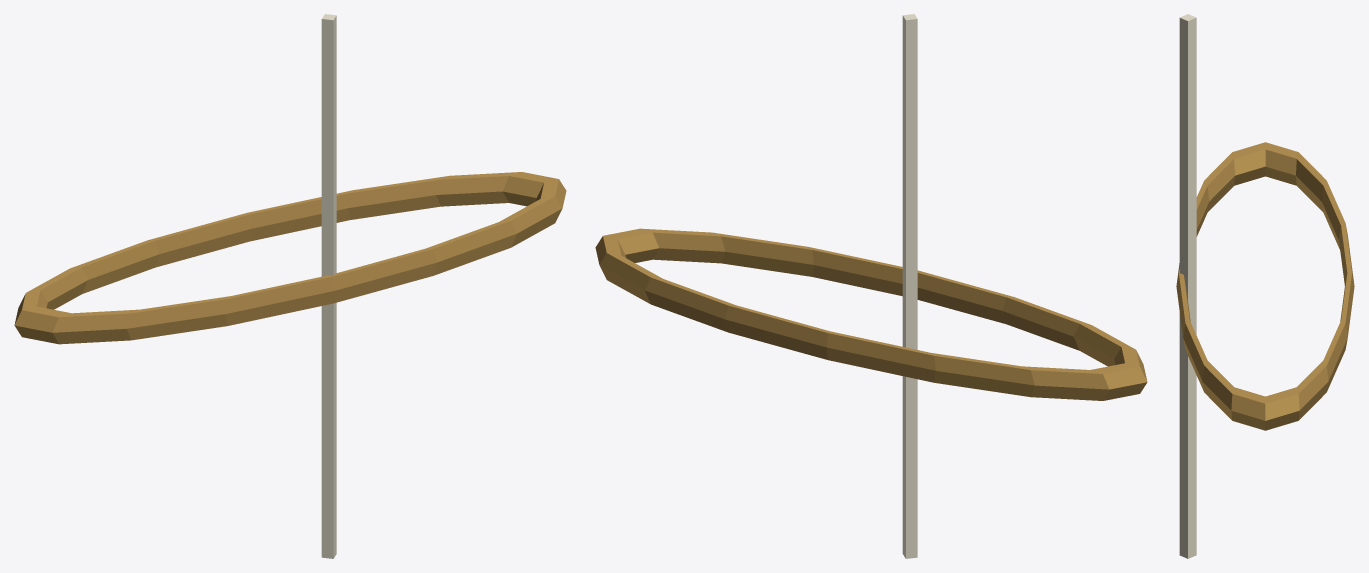
Rendered from wooden_bow.dae.
3 views of the same model, side by side, from view 1: azimuth 30°, elevation 25°; view 2: azimuth 150°, elevation 25°; view 3: azimuth 270°, elevation 25° (orthographic).
Visible parts, largest first — view 1: Torus.005, Cylinder; view 2: Torus.005, Cylinder; view 3: Torus.005, Cylinder.
Part boxes in pixels (x1=…): Torus.005: x1=14, y1=172, x2=566, y2=344; Cylinder: x1=321, y1=14, x2=336, y2=558; Torus.005: x1=595, y1=228, x2=1147, y2=400; Cylinder: x1=902, y1=14, x2=917, y2=558; Torus.005: x1=1176, y1=142, x2=1354, y2=430; Cylinder: x1=1179, y1=14, x2=1196, y2=558.
Bounding box in the file's own units: 148 × 41.44 × 138.
